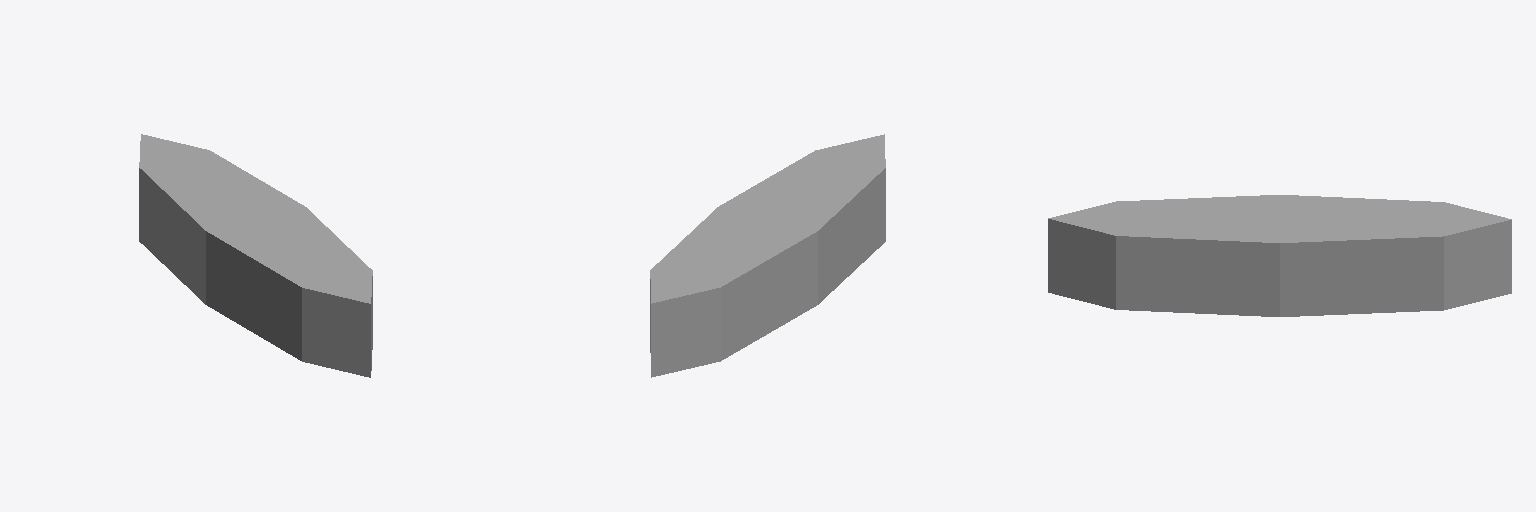
The model's file is laser.obj.
The picture shows the model from 3 angles: view 1: azimuth 30°, elevation 25°; view 2: azimuth 150°, elevation 25°; view 3: azimuth 270°, elevation 25°; orthographic projection.
Visible parts, largest first — view 1: cylinder; view 2: cylinder; view 3: cylinder.
Boxes of the visible parts, <box> form: cylinder: <box>139,134,372,377</box>; cylinder: <box>650,134,885,377</box>; cylinder: <box>1048,195,1511,316</box>.
Bounding box in the file's own units: 0.0902 × 0.064 × 0.3635.